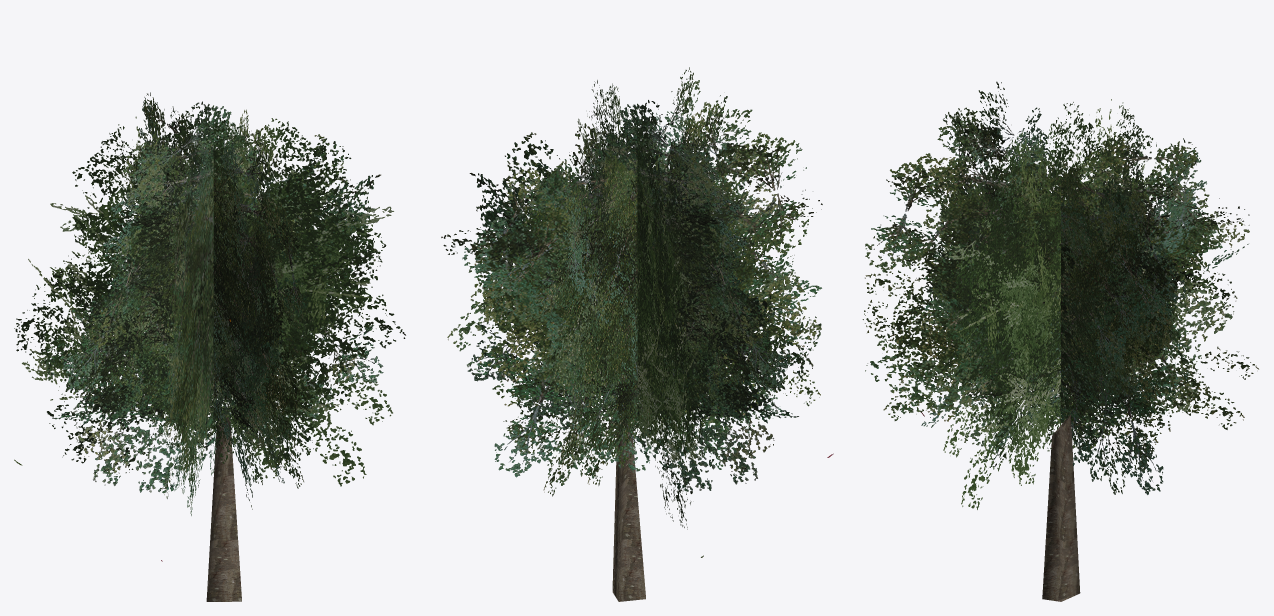
The model's file is tree19.glb.
The picture shows the model from 3 angles, left to right: view 1: azimuth 30°, elevation 25°; view 2: azimuth 150°, elevation 25°; view 3: azimuth 270°, elevation 25°; orthographic projection. The views are drawn at different scales.
Parts seen in each view (by area): view 1: tree2, tree2.001; view 2: tree2, tree2.001; view 3: tree2, tree2.001.
Part boxes in pixels (<box>): tree2: <box>14,92,405,561</box>; tree2.001: <box>206,414,241,601</box>; tree2: <box>441,67,833,557</box>; tree2.001: <box>612,421,645,601</box>; tree2: <box>862,81,1258,509</box>; tree2.001: <box>1042,414,1080,601</box>.
Bounding box in the file's own units: 20.25 × 27.68 × 20.25.
Materials: 2 (2 with a texture image).
